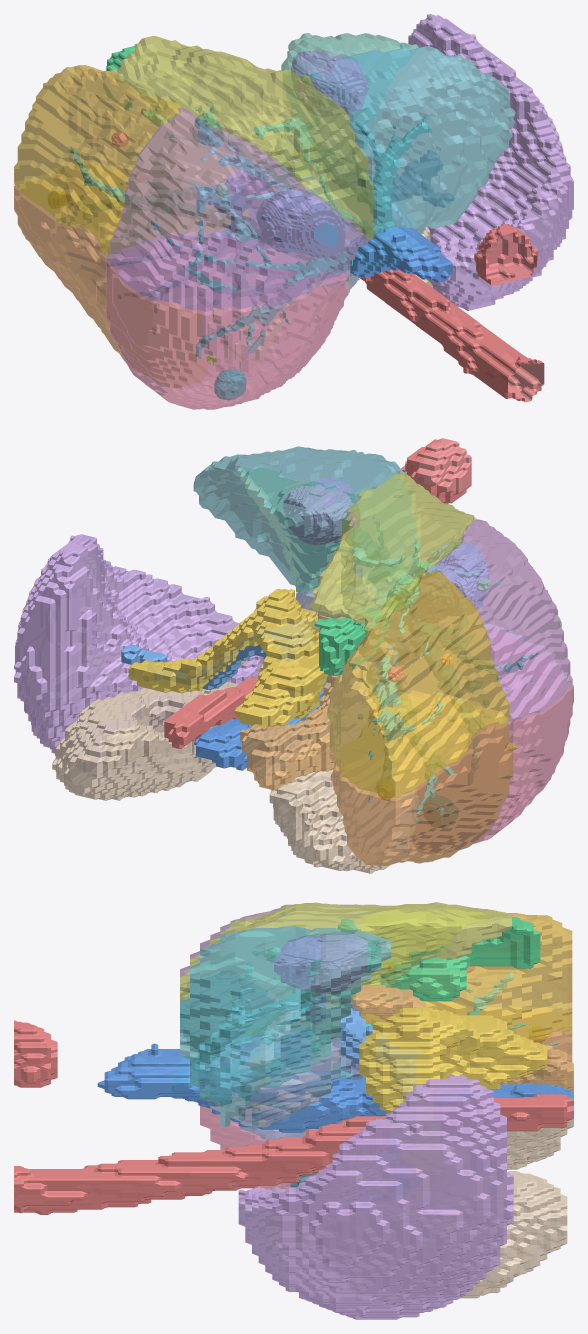
Rendered from liver_anatomy_aug.glb.
The picture shows the model from 3 angles, top to bottom: view 1: azimuth 30°, elevation 25°; view 2: azimuth 150°, elevation 25°; view 3: azimuth 270°, elevation 25°; orthographic projection. The views are drawn at different scales.
Visible parts, largest first — view 1: Liver_Shell, Segment_8, Segment_7, Segment_2, Segment_5, Segment_4, Spleen, Segment_6, Hepatic_Vessels, Aorta, Lesion_L02, Portal_Vein (+8 smaller); view 2: Liver_Shell, Segment_5, Spleen, Segment_2, Segment_6, Segment_4, Segment_8, Kidney_Left, Pancreas, Segment_7, Segment_3, Kidney_Right (+10 smaller); view 3: Liver_Shell, Spleen, Segment_2, Aorta, Pancreas, Segment_4, Inferior_Vena_Cava, Segment_5, Segment_1, Segment_3, Hepatic_Vessels, Kidney_Left (+9 smaller).
Part boxes in pixels (<box>): Liver_Shell: <box>14,33,514,409</box>; Segment_8: <box>106,107,369,311</box>; Segment_7: <box>106,236,349,409</box>; Segment_2: <box>309,44,514,234</box>; Segment_5: <box>14,65,247,255</box>; Segment_4: <box>110,36,373,239</box>; Spleen: <box>408,14,573,310</box>; Segment_6: <box>14,185,207,387</box>; Hepatic_Vessels: <box>71,103,430,358</box>; Aorta: <box>360,224,544,402</box>; Lesion_L02: <box>256,189,344,257</box>; Portal_Vein: <box>208,131,453,238</box>; Liver_Shell: <box>194,446,573,865</box>; Segment_5: <box>327,571,509,797</box>; Spleen: <box>14,534,263,765</box>; Segment_2: <box>193,446,415,586</box>; Segment_6: <box>329,721,513,865</box>; Segment_4: <box>310,473,474,634</box>; Segment_8: <box>425,519,572,721</box>; Kidney_Left: <box>52,681,238,800</box>; Pancreas: <box>128,589,328,727</box>; Segment_7: <box>460,628,573,849</box>; Segment_3: <box>237,467,358,591</box>; Kidney_Right: <box>269,768,418,873</box>; Liver_Shell: <box>180,902,571,1189</box>; Spleen: <box>238,1076,513,1319</box>; Segment_2: <box>180,926,320,1126</box>; Aorta: <box>14,1020,573,1214</box>; Pancreas: <box>359,1007,547,1113</box>; Segment_4: <box>180,902,511,1038</box>; Inferior_Vena_Cava: <box>97,1043,573,1132</box>; Segment_5: <box>361,904,572,1039</box>; Segment_1: <box>205,1031,360,1140</box>; Segment_3: <box>310,928,391,1062</box>; Hepatic_Vessels: <box>172,936,559,1127</box>; Kidney_Left: <box>378,1171,567,1298</box>.
Bounding box in the file's own units: 236 × 162 × 250.
